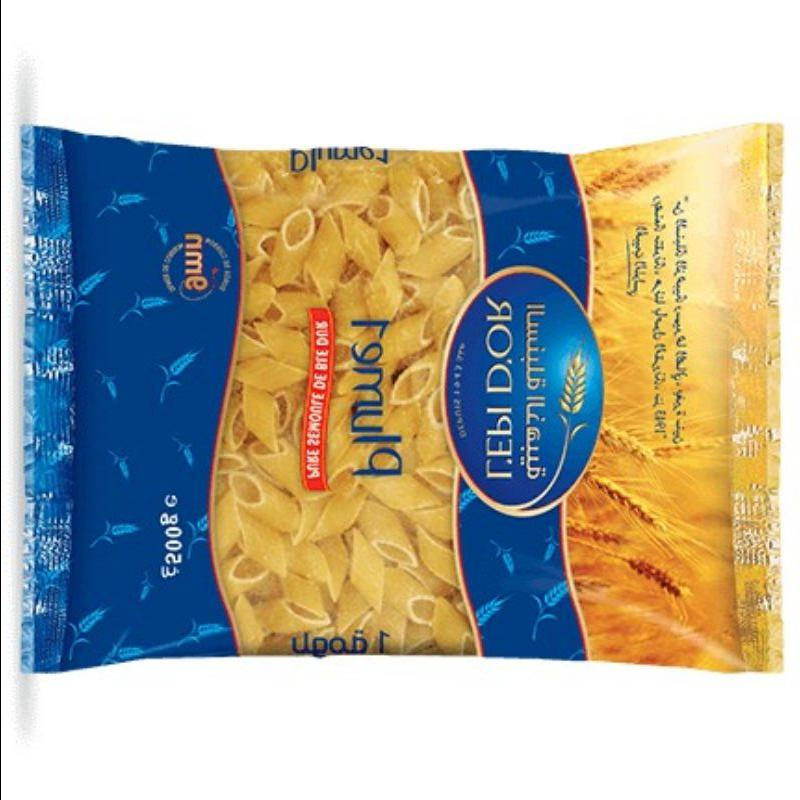plume: (18, 121, 783, 675)
